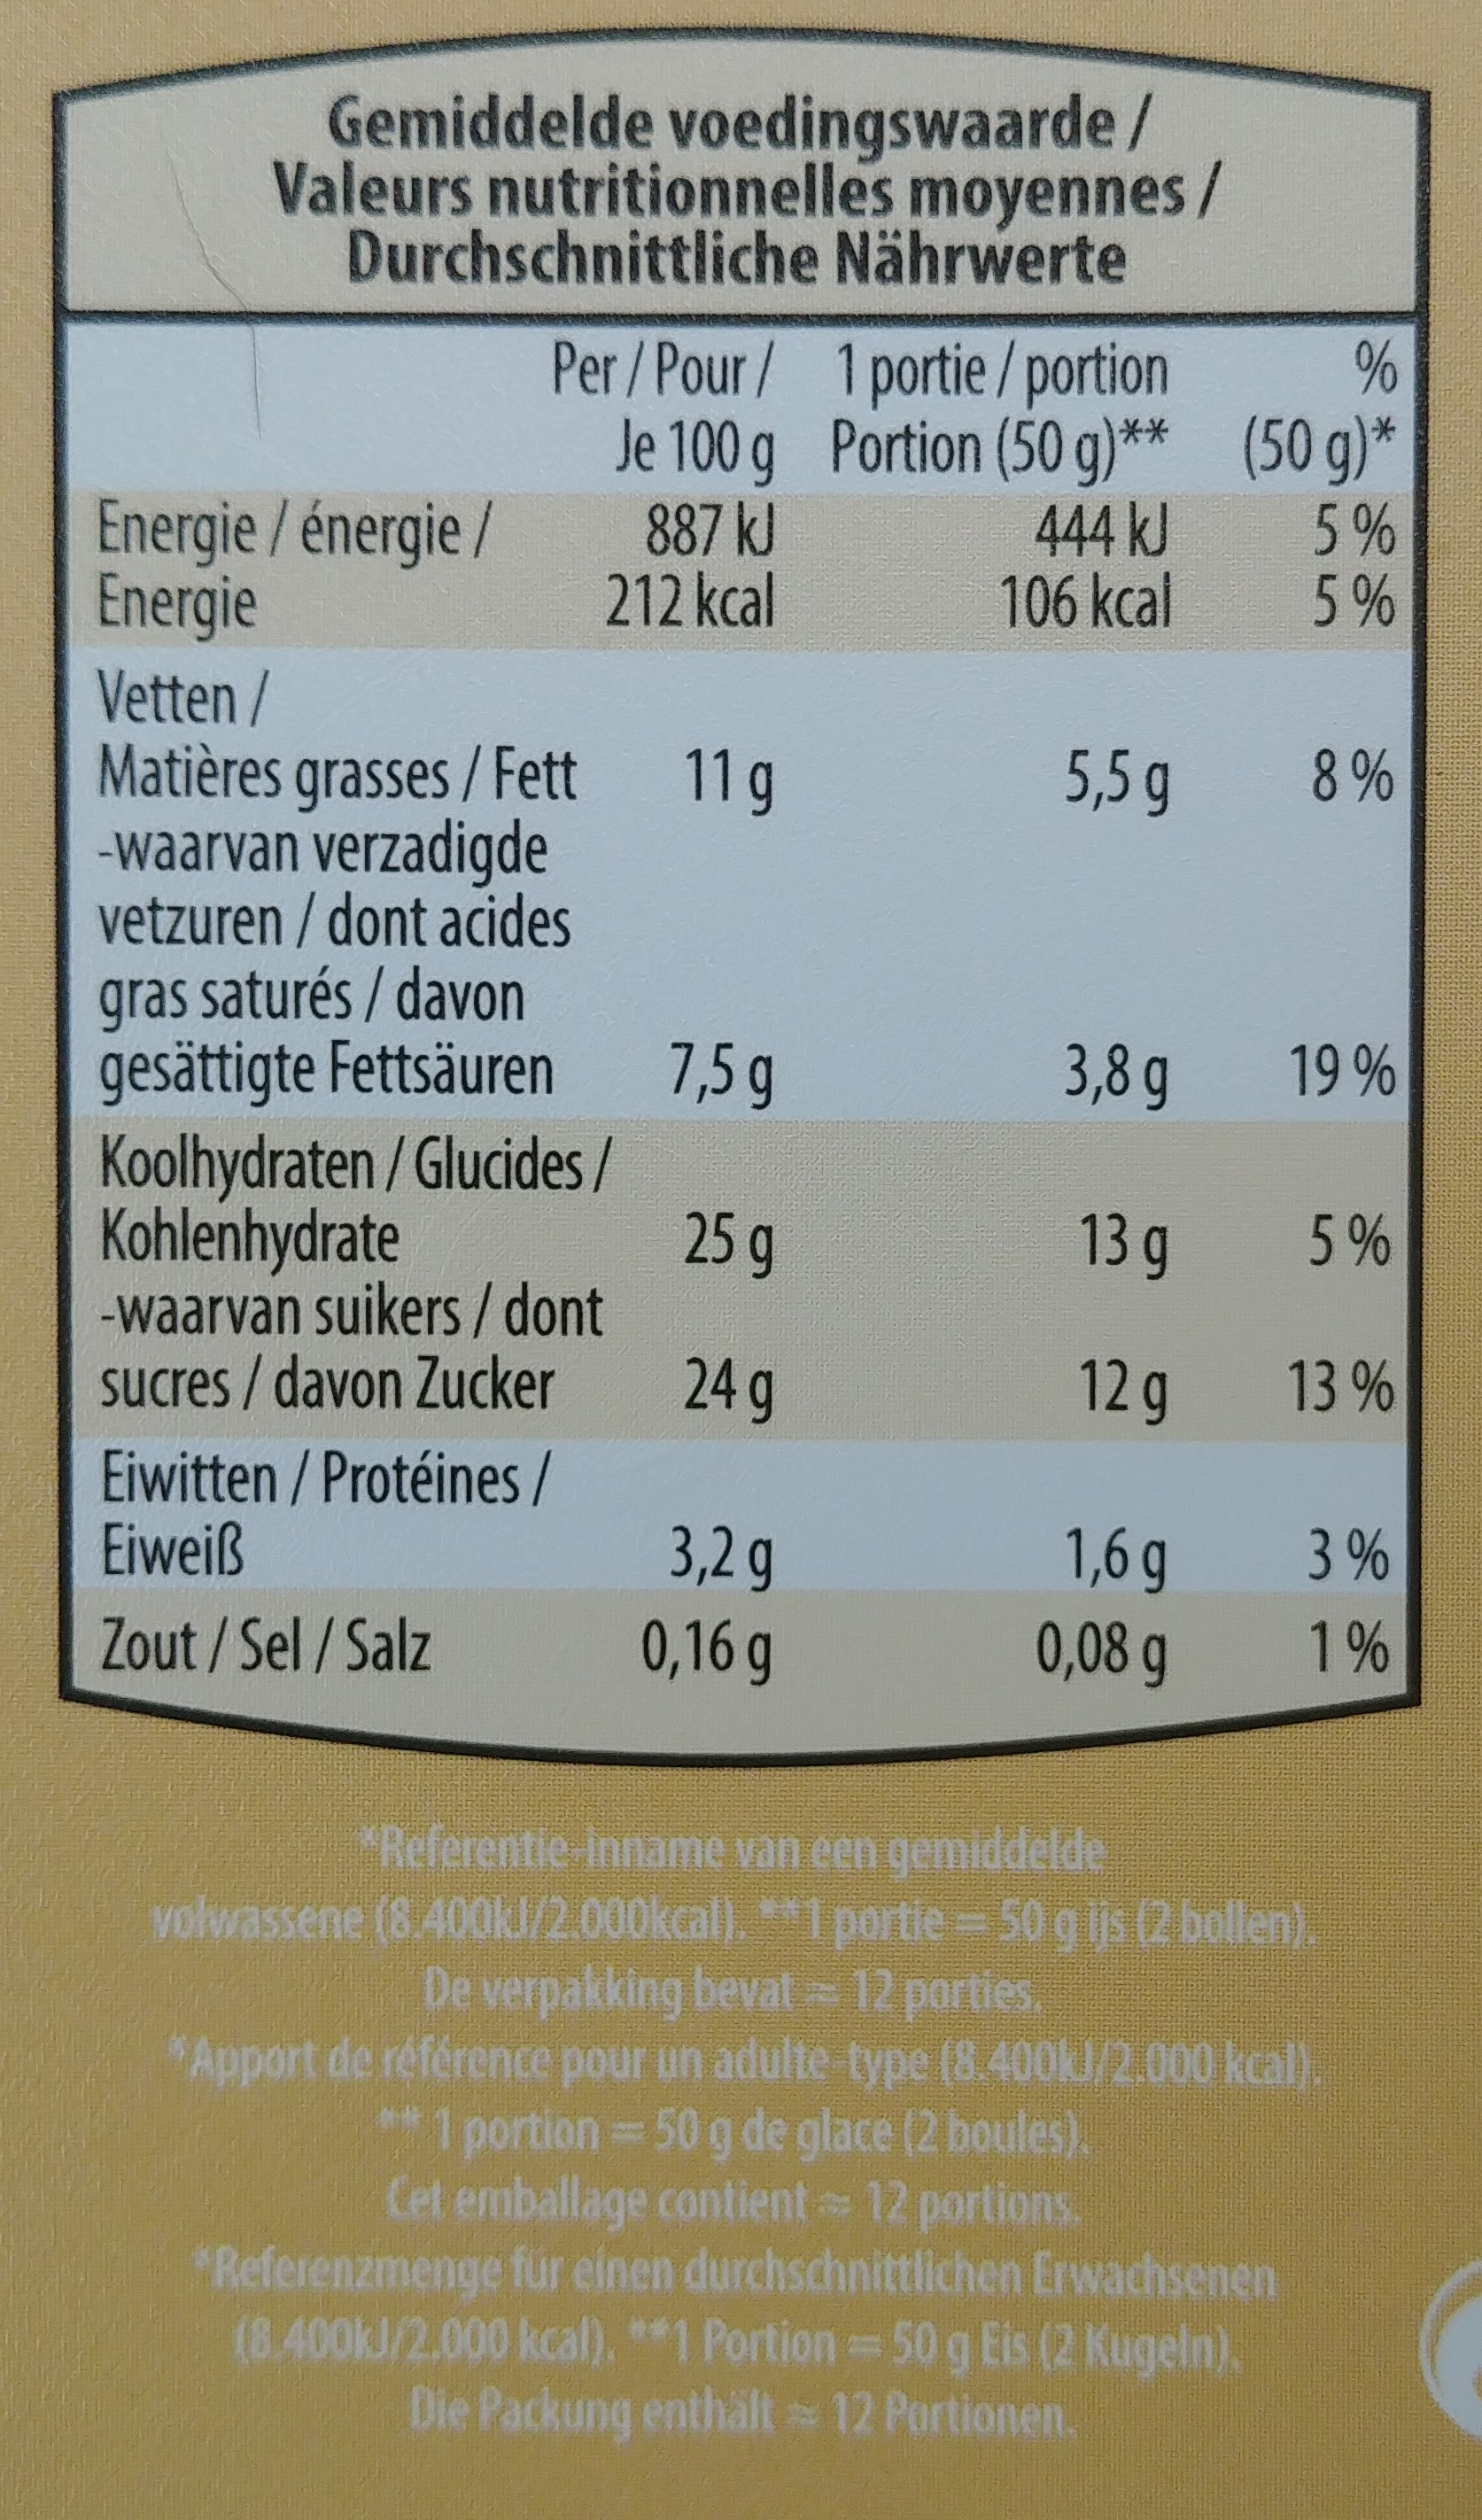column: (88, 490, 596, 1776), (833, 314, 1177, 1776), (1239, 324, 1410, 1772), (609, 346, 776, 1691)
table: (48, 26, 1433, 1772)
